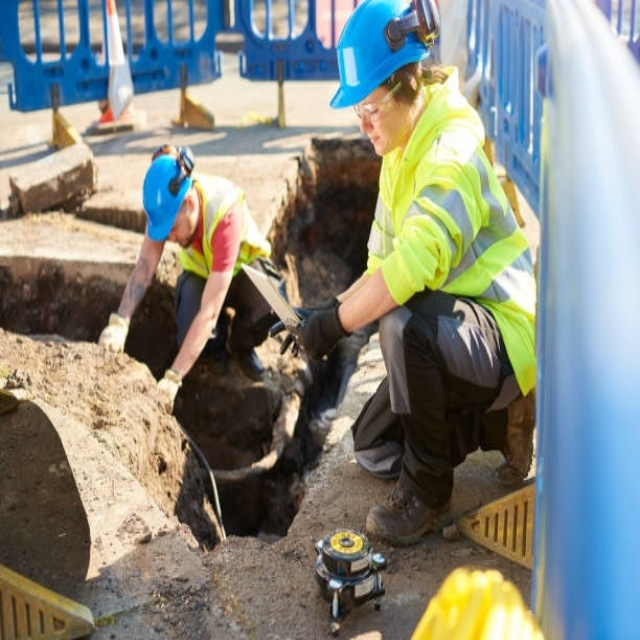Gafas: (356, 75, 406, 122)
Guantes: (291, 299, 350, 361), (97, 311, 131, 352), (156, 368, 184, 413)
Sin_mascara: (361, 130, 395, 158)
